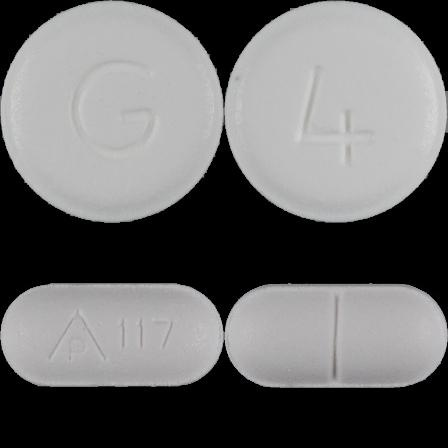33261-747: (0, 0, 224, 224)
